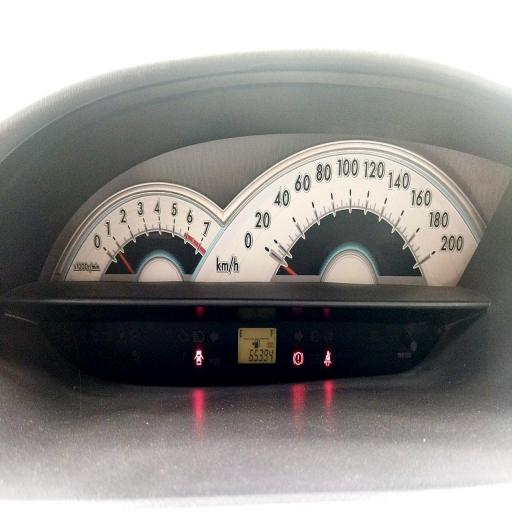belt: (324, 348, 332, 368)
brake_system_fault: (293, 351, 304, 366)
tachometer: (50, 180, 224, 281)
